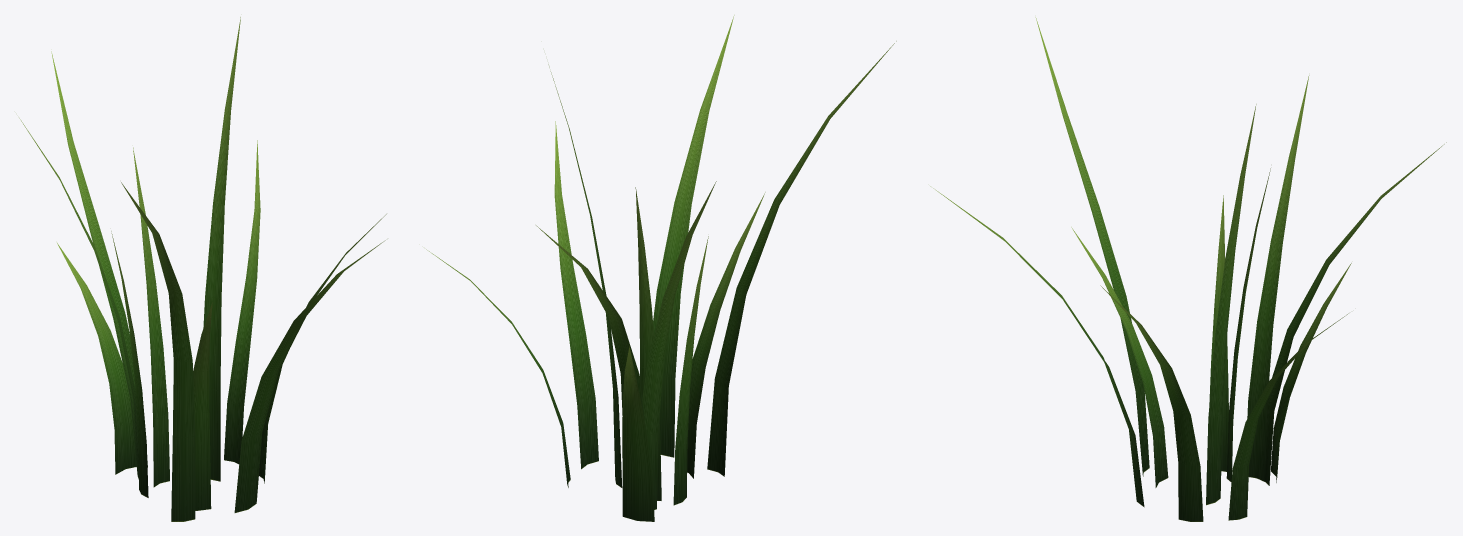
Rendered from Grass_Tuft_Medium.fbx.
3 views of the same model, side by side, from view 1: azimuth 30°, elevation 25°; view 2: azimuth 150°, elevation 25°; view 3: azimuth 270°, elevation 25° (orthographic). The views are drawn at different scales.
Visible parts, largest first — view 1: Grass_Tuft_Medium; view 2: Grass_Tuft_Medium; view 3: Grass_Tuft_Medium.
Boxes of the visible parts, x1,y1,x2,y2 form: Grass_Tuft_Medium: (19, 17, 386, 521); Grass_Tuft_Medium: (426, 15, 896, 521); Grass_Tuft_Medium: (930, 17, 1446, 521).
Size of the model in its own units: 1.79 by 2.46 by 2.73.
Materials: 1 (1 with a texture image).
